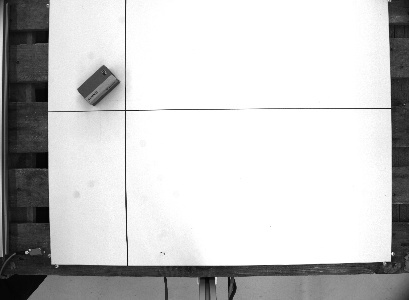b3: (74, 62, 122, 108)
